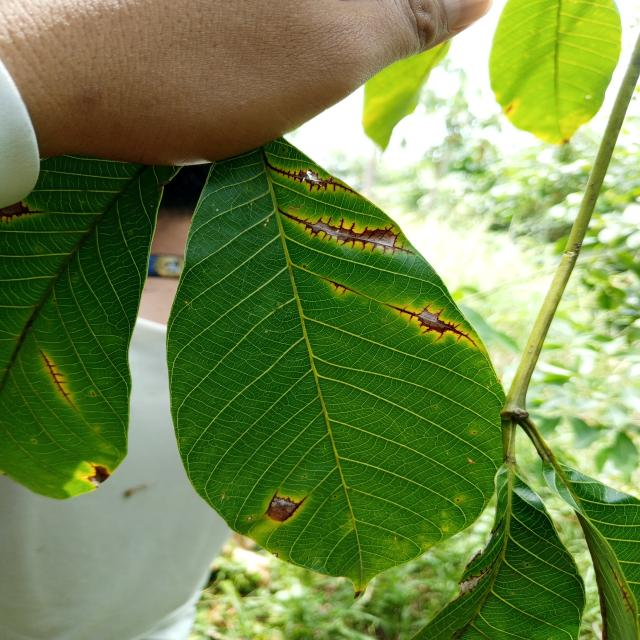Colletotrichum: (272, 552, 278, 558), (247, 516, 252, 520), (303, 265, 306, 268), (526, 564, 528, 566), (287, 560, 290, 561)
Corynespora: (277, 208, 415, 255), (386, 304, 476, 346), (265, 159, 361, 196), (39, 350, 78, 411), (458, 547, 503, 596), (606, 559, 636, 626), (0, 200, 46, 224), (323, 277, 361, 297), (282, 497, 308, 522), (264, 490, 278, 514), (490, 518, 504, 536)
Leaf-Blight: (268, 497, 296, 521), (89, 466, 111, 487)
